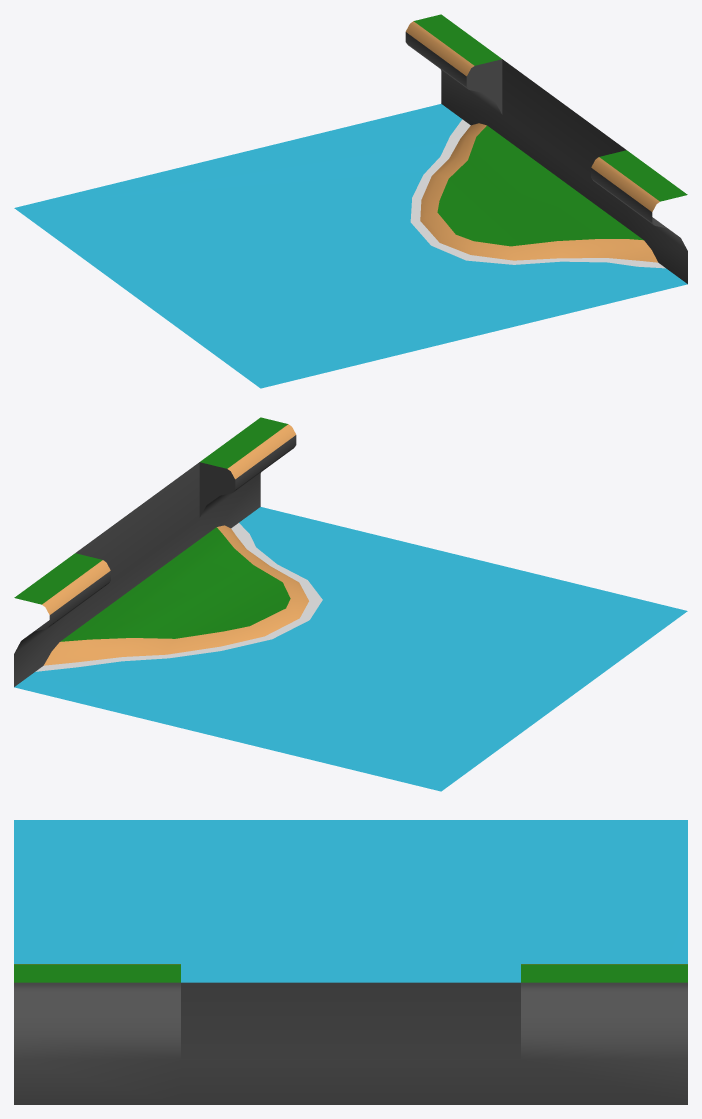
The model's file is Side-3.fbx.
3 renders of one model, top to bottom at view 1: azimuth 30°, elevation 25°; view 2: azimuth 150°, elevation 25°; view 3: azimuth 270°, elevation 25°, orthographic. The views are drawn at different scales.
Visible parts, largest first — view 1: Side-3.004, Side-3.001, Side-3, Side-3.003, Side-3.002; view 2: Side-3.004, Side-3.001, Side-3, Side-3.003, Side-3.002; view 3: Side-3.004, Side-3, Side-3.001.
Boxes of the visible parts, x1,y1,x2,y2 form: Side-3.004: (14,104,687,388); Side-3.001: (414,14,687,246); Side-3: (405,32,687,283); Side-3.003: (405,21,659,262); Side-3.002: (410,119,665,268); Side-3.004: (14,507,687,791); Side-3.001: (14,417,290,641); Side-3: (14,435,296,686); Side-3.003: (42,424,308,665); Side-3.002: (35,523,322,671); Side-3.004: (14,820,687,982); Side-3: (14,982,687,1104); Side-3.001: (14,964,687,982).
Size of the model in its own units: 20 by 4 by 20.
